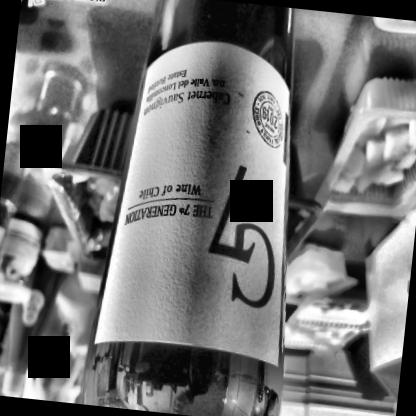G7: (92, 32, 314, 368)
